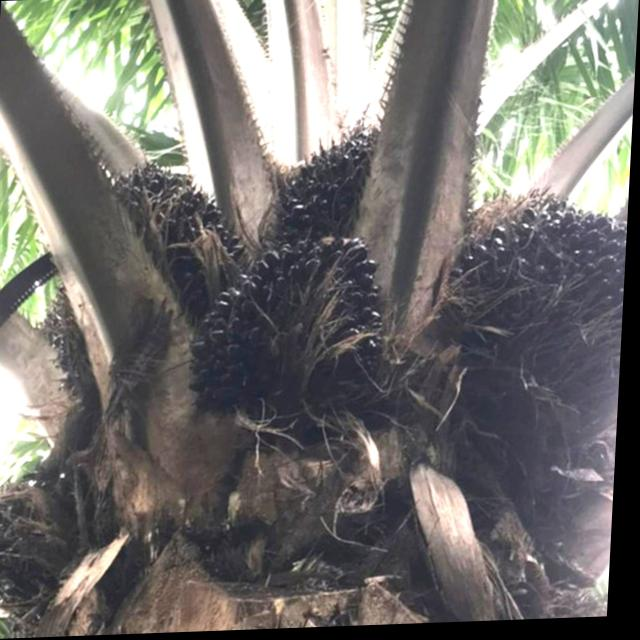almost: (49, 153, 253, 406), (435, 201, 631, 440), (192, 233, 392, 414), (0, 463, 116, 614), (276, 123, 401, 255)
